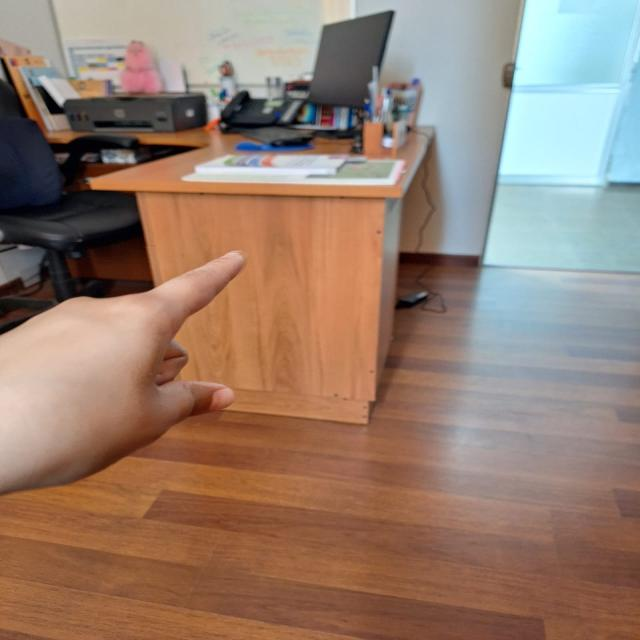S: (0, 237, 277, 505)
